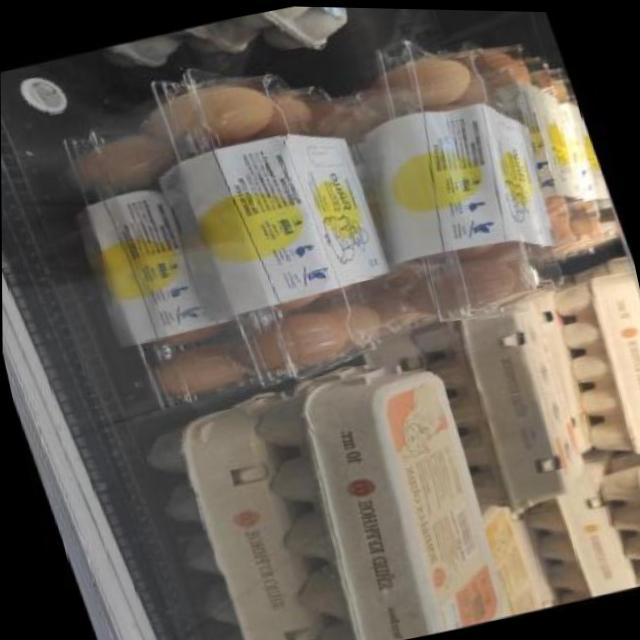Egg: (235, 327, 532, 640)
